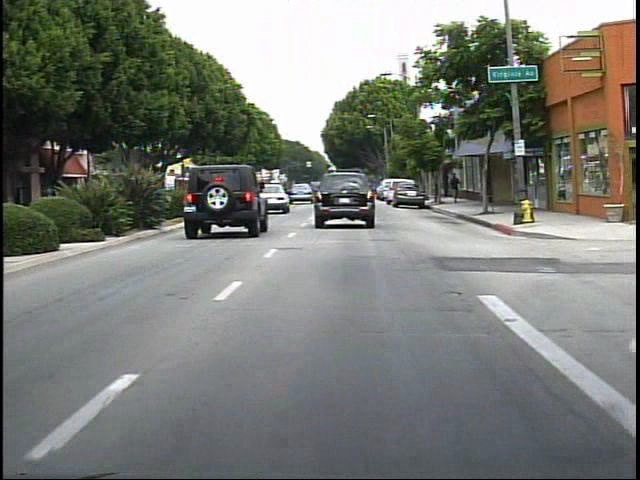person: (445, 169, 465, 207)
